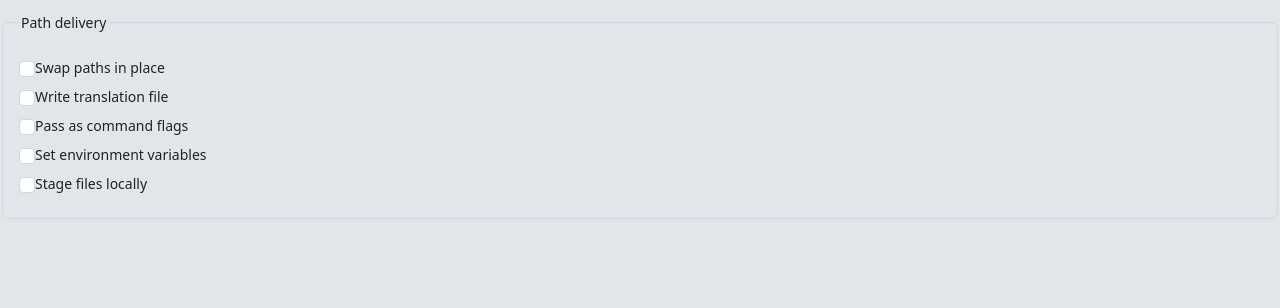
it: ProductPathDelivery › reveals the flag pattern field only when command flags is checked
The width and height of the screenshot is (1280, 308).
Check: the field labelled "flag pattern" is not shown
Click the checkbox labelled "Pass as command flags" at (27, 127), box [19, 119, 35, 135]
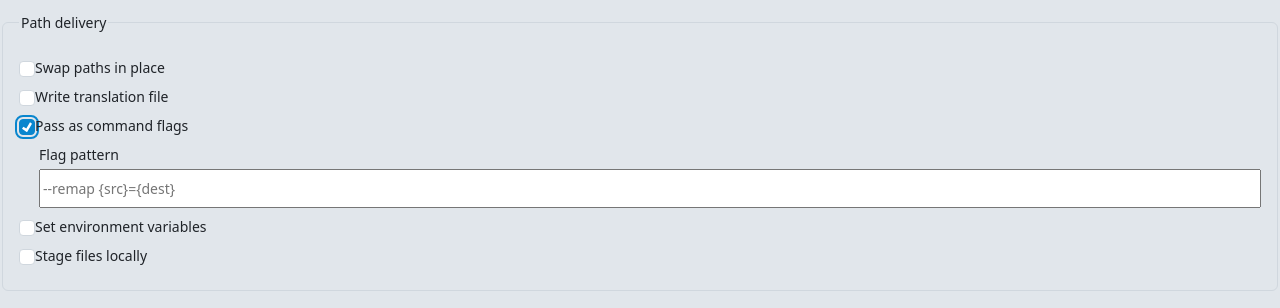
Check: the field labelled "Flag pattern" is shown, box [39, 169, 1261, 208]
